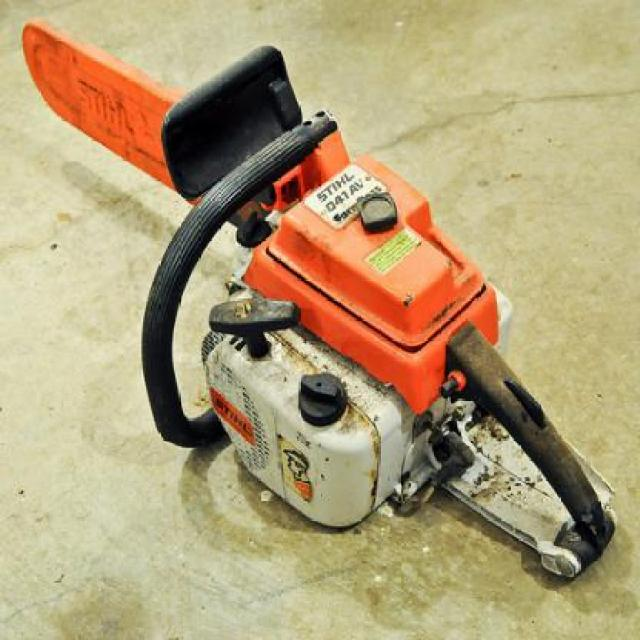Chainsaw: (16, 14, 622, 586)
